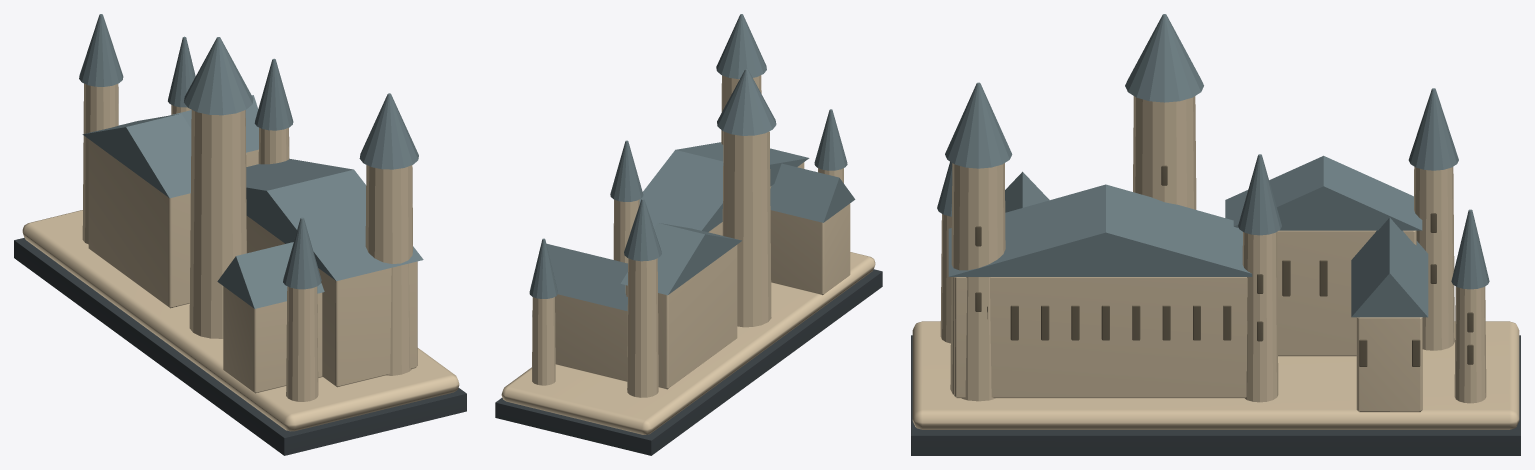
Rendered from hogwarts_v06c.glb.
The picture shows the model from 3 angles, left to right: view 1: azimuth 30°, elevation 25°; view 2: azimuth 150°, elevation 25°; view 3: azimuth 270°, elevation 25°; orthographic projection. The views are drawn at different scales.
Visible parts, largest first — view 1: VIS_Hogwarts, VIS_HogwartsPlinth; view 2: VIS_Hogwarts, VIS_HogwartsPlinth; view 3: VIS_Hogwarts, VIS_HogwartsPlinth.
Part boxes in pixels (bbox=[...]): VIS_Hogwarts: bbox=[22, 14, 459, 431]; VIS_HogwartsPlinth: bbox=[14, 237, 466, 455]; VIS_Hogwarts: bbox=[501, 14, 875, 434]; VIS_HogwartsPlinth: bbox=[495, 269, 882, 455]; VIS_Hogwarts: bbox=[912, 14, 1519, 429]; VIS_HogwartsPlinth: bbox=[911, 335, 1520, 455].
Size of the model in its own units: 0.482 by 0.8191 by 1.24.
